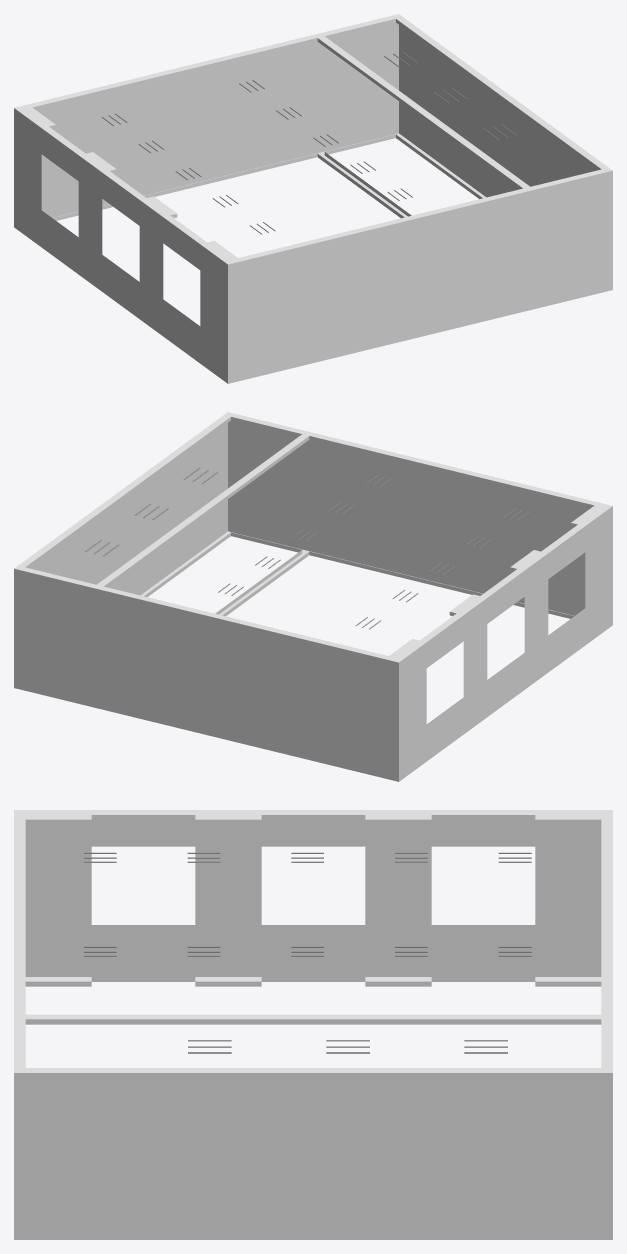
The model's file is HX_BHP.FBX.
3 renders of one model, top to bottom at view 1: azimuth 30°, elevation 25°; view 2: azimuth 150°, elevation 25°; view 3: azimuth 270°, elevation 25°, orthographic. The views are drawn at different scales.
Parts seen in each view (by area): view 1: BHP_03, BHP_01; view 2: BHP_03, BHP_01; view 3: BHP_03, BHP_01.
Boxes of the visible parts, x1=… form: BHP_03: x1=14, y1=14, x2=612, y2=383; BHP_01: x1=101, y1=51, x2=517, y2=234; BHP_03: x1=14, y1=412, x2=612, y2=781; BHP_01: x1=85, y1=467, x2=529, y2=629; BHP_03: x1=14, y1=810, x2=612, y2=1239; BHP_01: x1=84, y1=852, x2=531, y2=1053.
Bounding box in the file's own units: 10800 × 3200 × 10400.
Materials: 2 (1 with a texture image).
